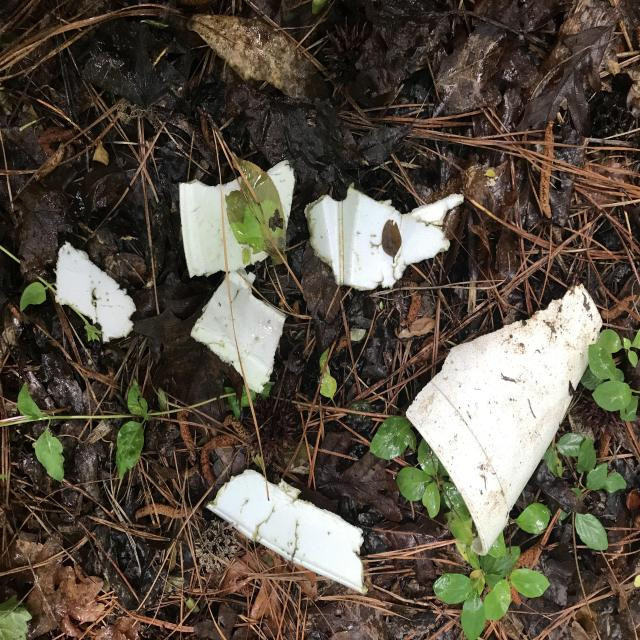litter: (45, 151, 616, 603)
